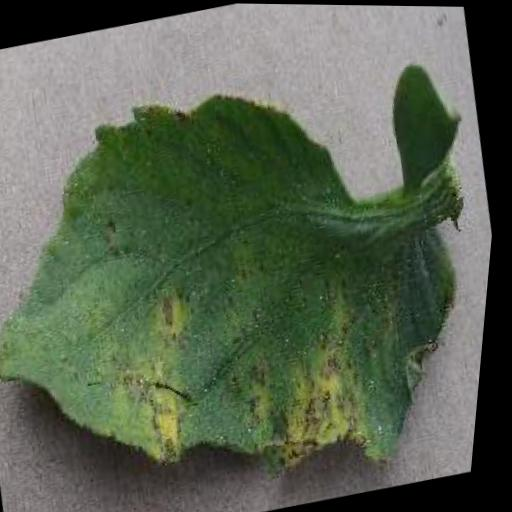Bacterial Spot: (0, 37, 509, 512)
